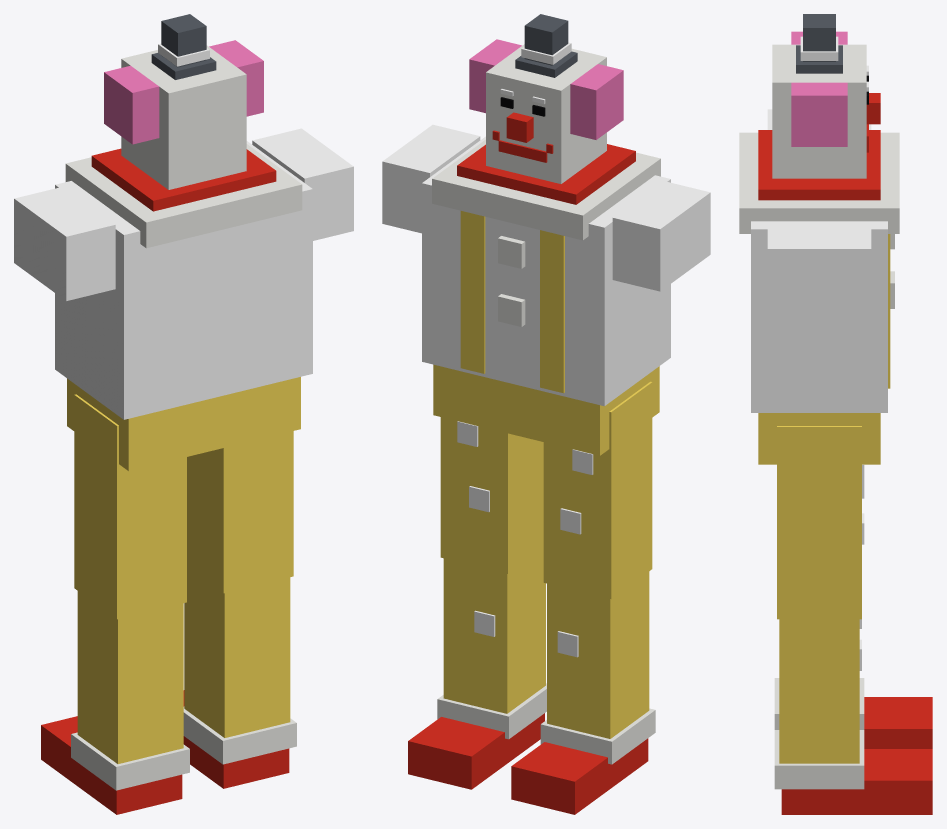
Rendered from CLOWN.gltf.
3 renders of one model, left to right at view 1: azimuth 30°, elevation 25°; view 2: azimuth 150°, elevation 25°; view 3: azimuth 270°, elevation 25°, orthographic. The views are drawn at different scales.
Parts seen in each view (by area): view 1: CLOWN; view 2: CLOWN; view 3: CLOWN.
Boxes of the visible parts, box(x1,y1,x2,y2) form: CLOWN: box(14, 14, 353, 814); CLOWN: box(382, 14, 710, 814); CLOWN: box(739, 14, 932, 814).
Size of the model in its own units: 0.7 by 1.76 by 0.41.
